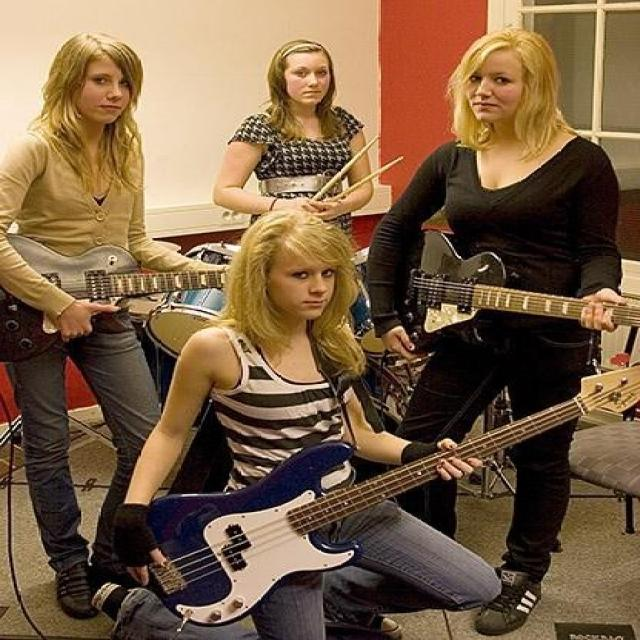drums: (138, 226, 406, 370)
guitar: (404, 224, 640, 347), (0, 245, 233, 346)
